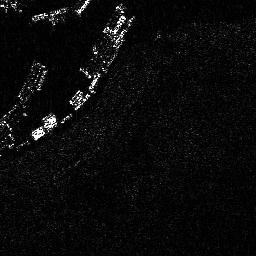ship: (68, 86, 83, 108)
